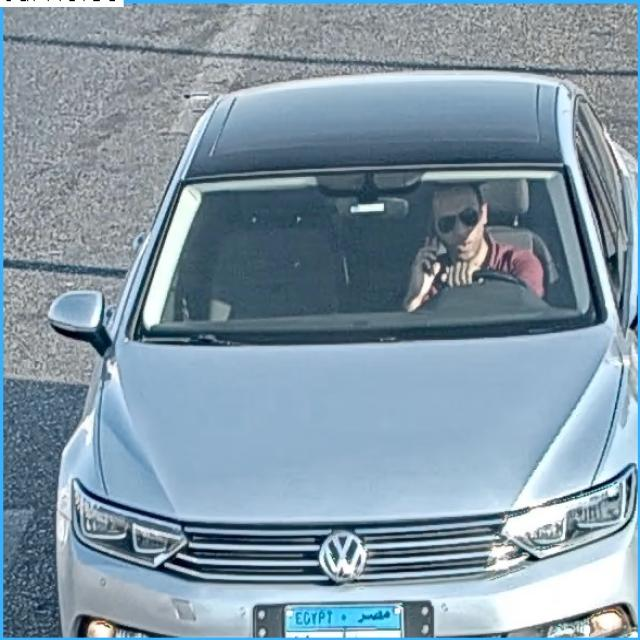windshield: (139, 162, 582, 332)
